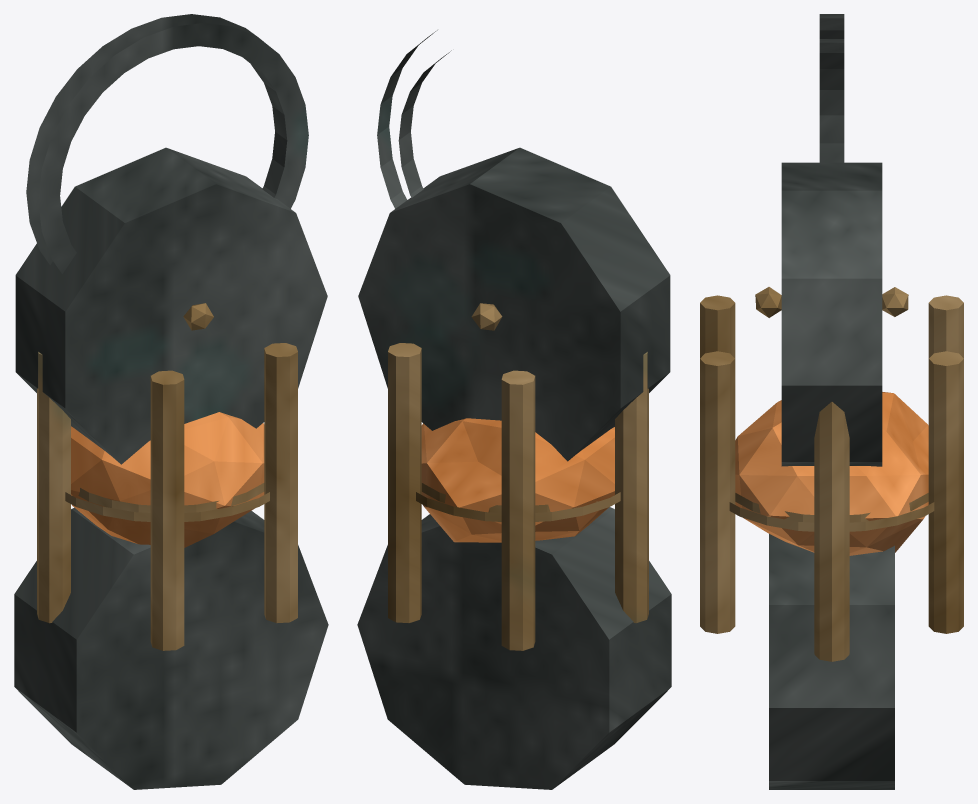
File: 0925_lantern_25.glb
The picture shows the model from 3 angles, left to right: view 1: azimuth 30°, elevation 25°; view 2: azimuth 150°, elevation 25°; view 3: azimuth 270°, elevation 25°; orthographic projection.
Parts seen in each view (by area): view 1: iron, brass, amber; view 2: iron, brass, amber; view 3: iron, brass, amber.
Boxes of the visible parts, <box> form: iron: <box>14,14,328,789</box>; brass: <box>37,303,297,650</box>; amber: <box>71,412,264,547</box>; iron: <box>357,30,671,789</box>; brass: <box>388,303,648,650</box>; amber: <box>421,418,614,542</box>; iron: <box>769,14,894,789</box>; brass: <box>700,287,963,661</box>; amber: <box>735,392,928,555</box>.
Bounding box in the file's own units: 0.5 × 1.32 × 0.4197.
Materials: 3 (3 with a texture image).
